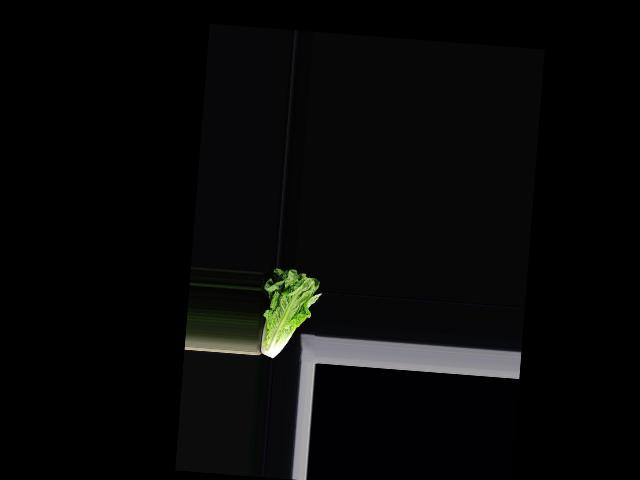lettuce: (258, 265, 322, 362)
